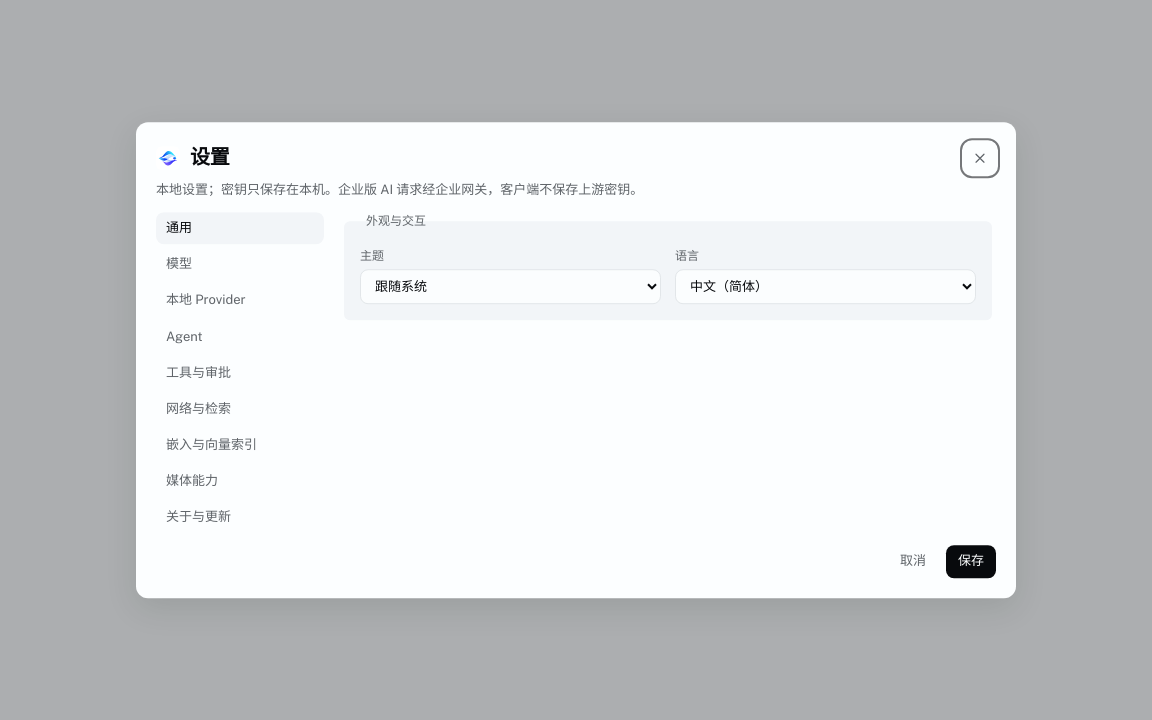
Test: settings dialog (paginated shell) › shows inline range errors on the agent pane
The image size is (1152, 720).
Step 1. Click the button "Agent" → (240, 337), box [156,321,324,353]
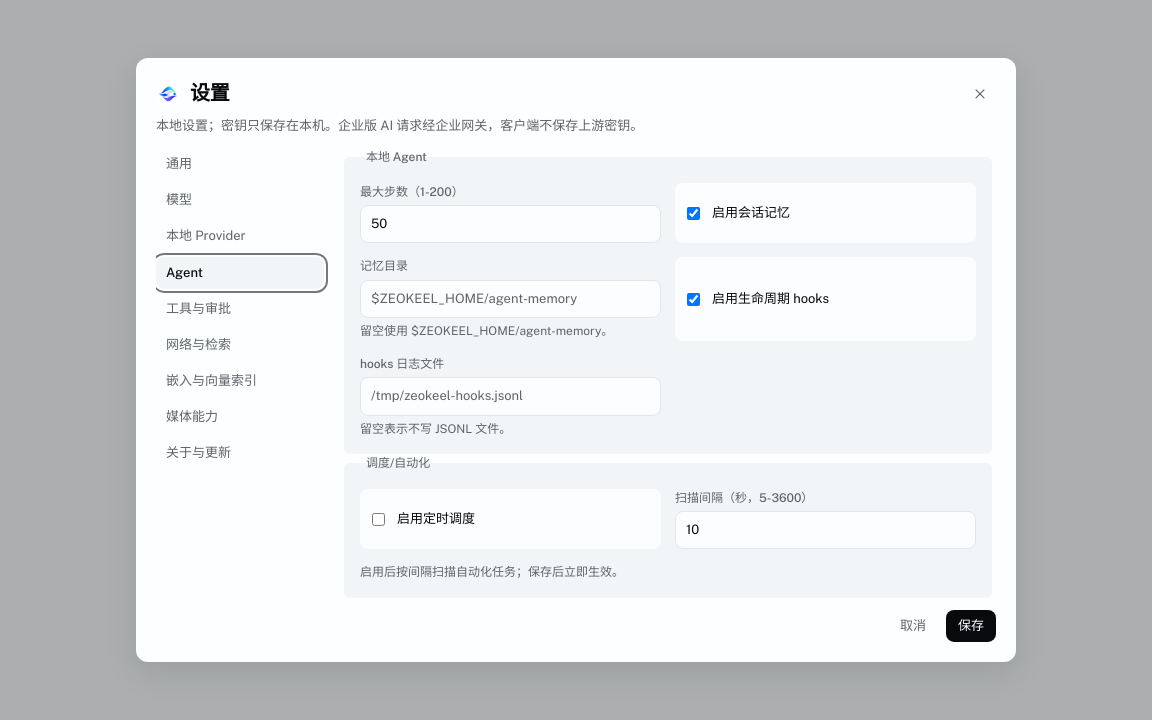
Step 2. Replace the text in the number field labelled "最大步数（1-200）" with "0" → (510, 224), box [360,205,661,243]
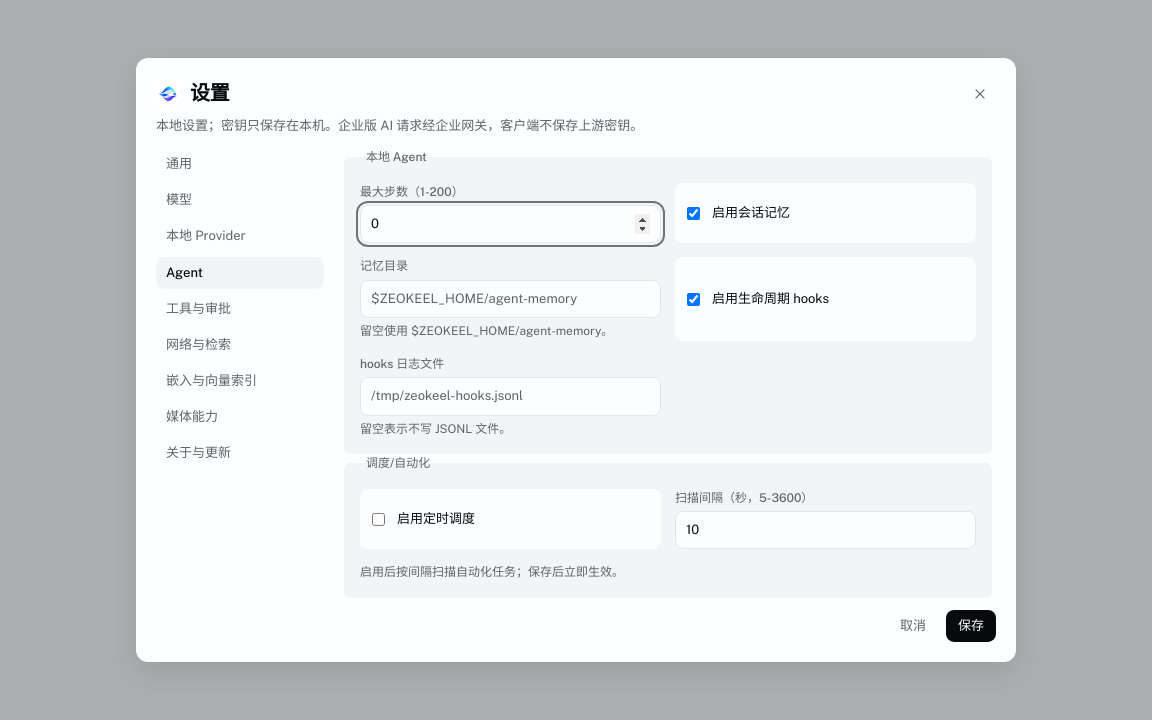
Step 3. Click the button "保存" → (971, 626), box [946,610,996,642]
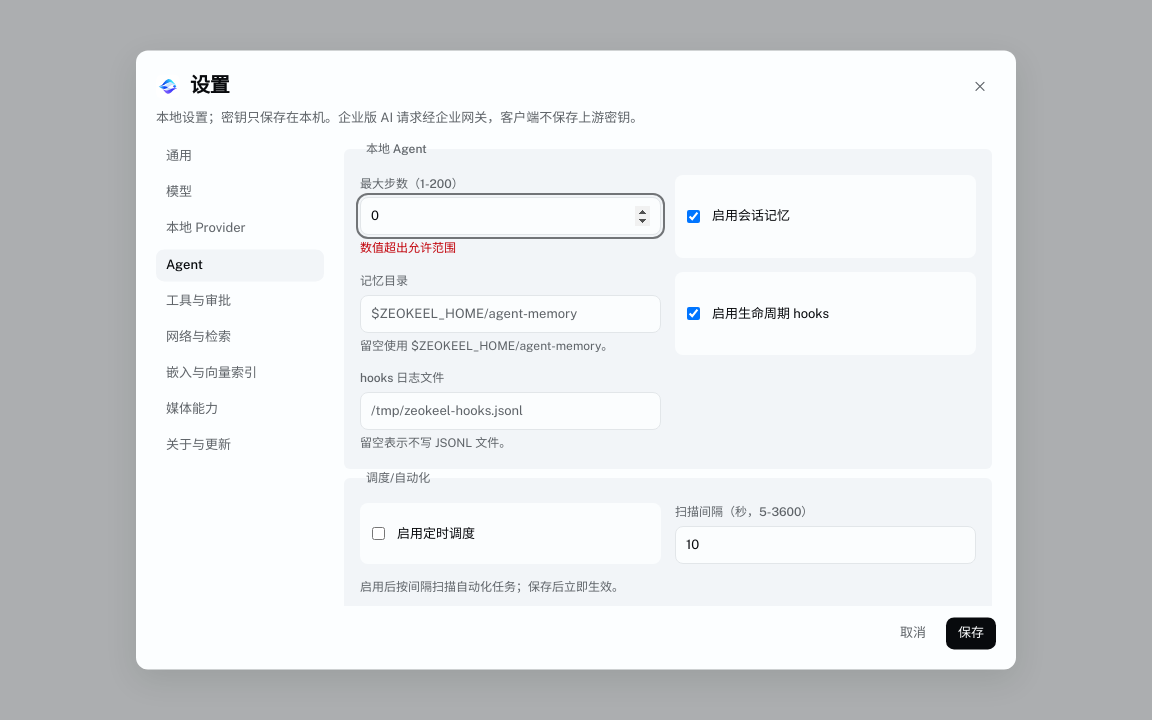
Expected: the text "数值超出允许范围" is shown, [360,242,456,256]
